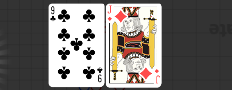9C: (96, 67, 104, 84)
JD: (154, 68, 161, 85)
